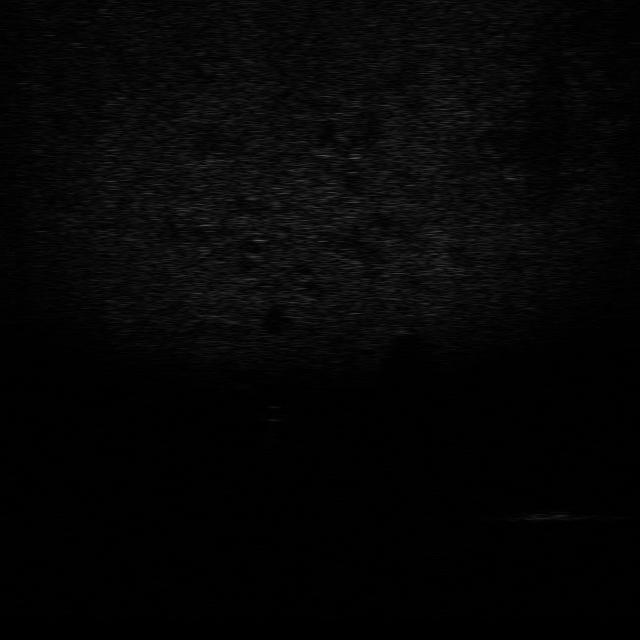ball: (252, 404, 290, 422)
metal bucket: (498, 505, 590, 525)
tyre: (389, 518, 451, 564)
